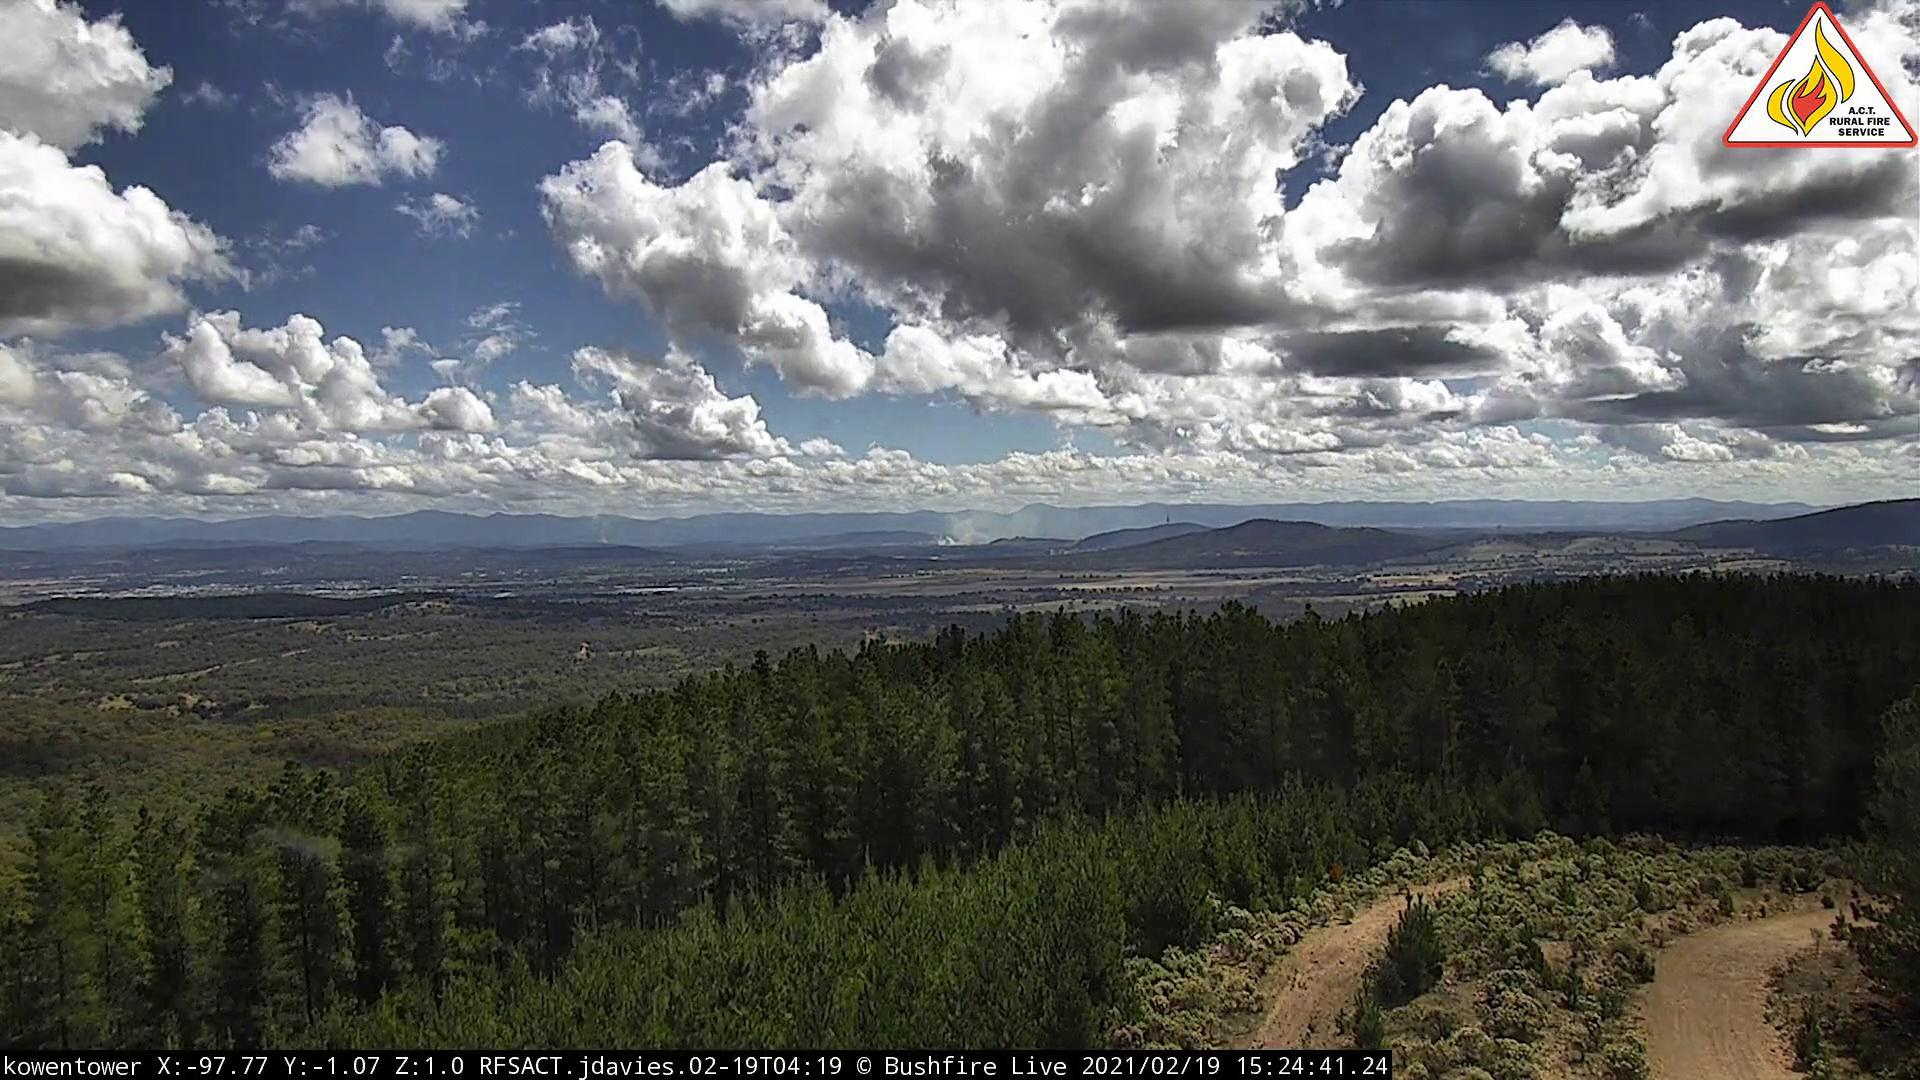Smoke: (924, 500, 1055, 550), (585, 521, 615, 547)
